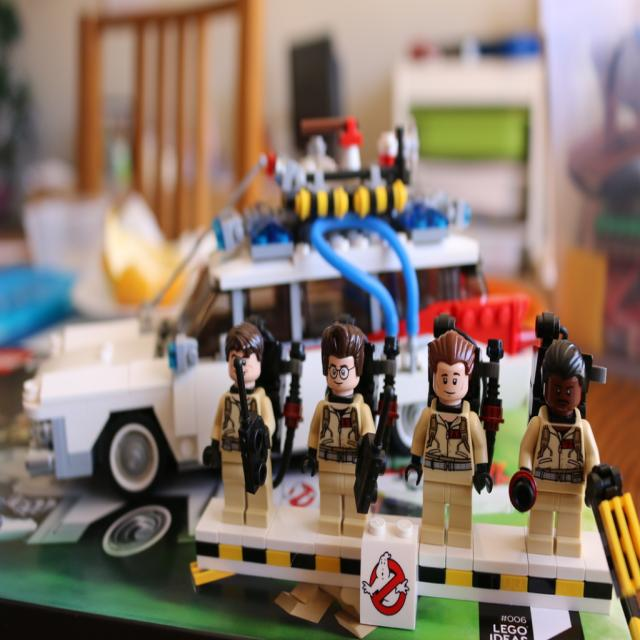car: (21, 114, 480, 499)
